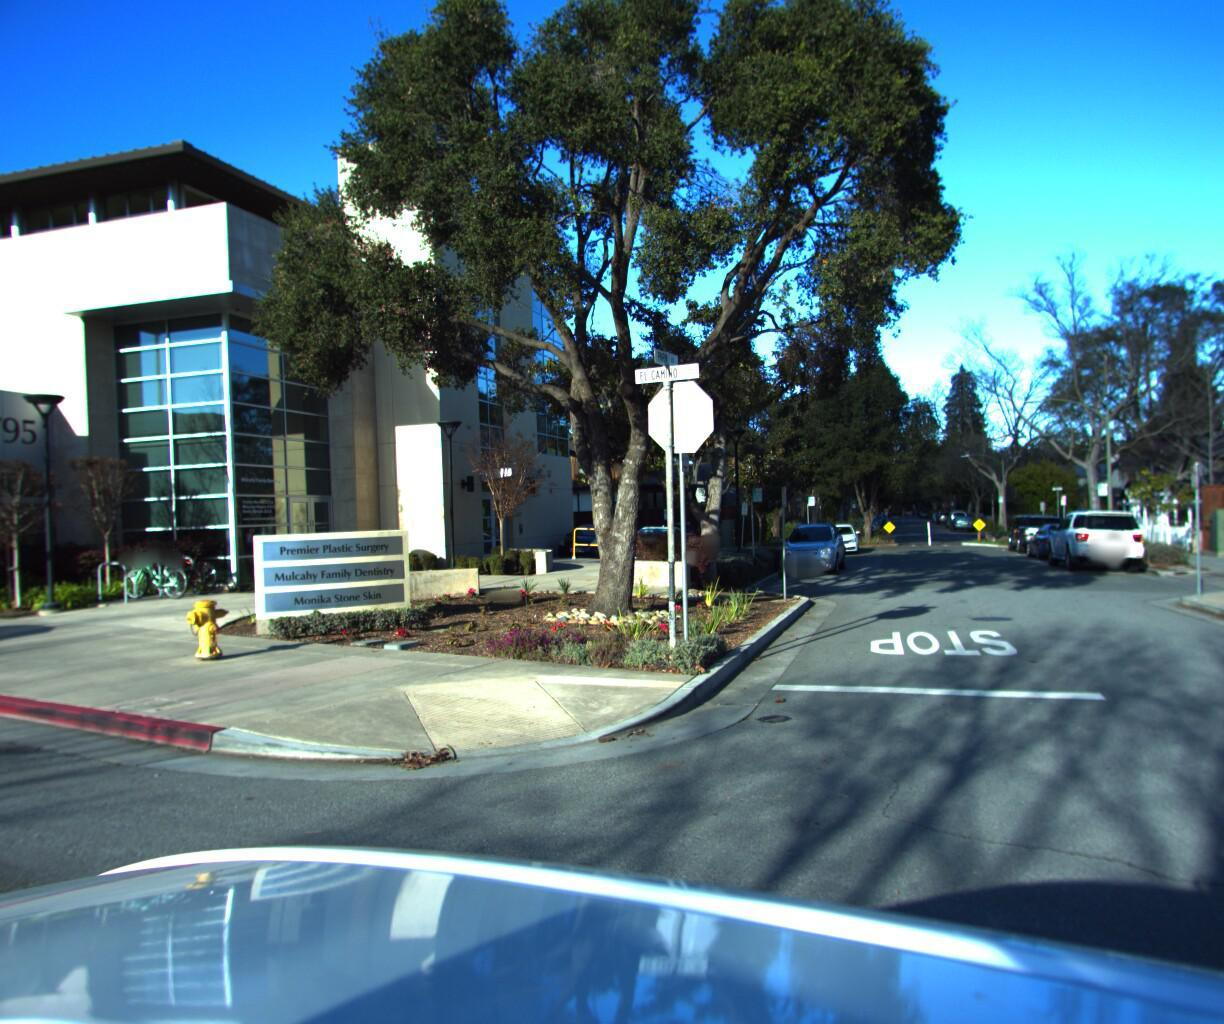bicycle: (116, 541, 206, 596), (148, 540, 234, 591)
car: (1039, 498, 1150, 571), (773, 514, 850, 574), (547, 515, 635, 562), (1003, 505, 1074, 548), (1022, 516, 1091, 558), (814, 515, 862, 550), (950, 509, 975, 527)
